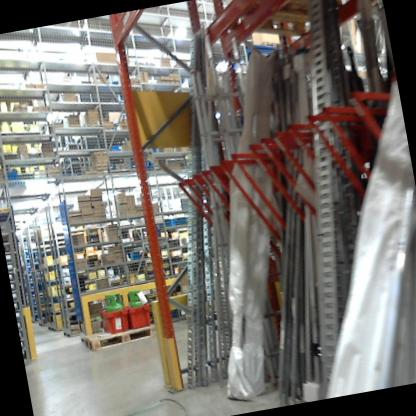pallet: (222, 0, 382, 50), (81, 315, 162, 356)
small_load_carrier: (97, 298, 131, 336), (124, 298, 154, 331)
